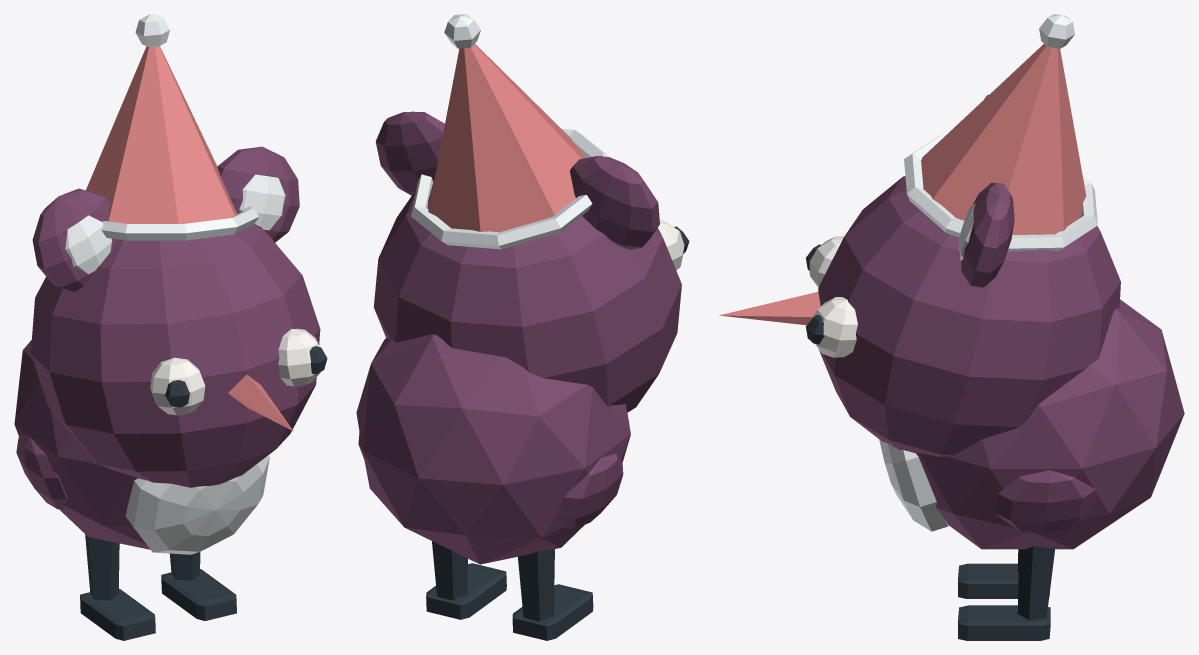
The model's file is bird-lab-1.glb.
3 views of the same model, side by side, from view 1: azimuth 30°, elevation 25°; view 2: azimuth 150°, elevation 25°; view 3: azimuth 270°, elevation 25° (orthographic). The views are drawn at different scales.
Visible parts, largest first — view 1: bird-lab-1; view 2: bird-lab-1; view 3: bird-lab-1.
Part boxes in pixels (left/top/right/bottom): bird-lab-1: left=14, top=14, right=327, bottom=640; bird-lab-1: left=356, top=14, right=689, bottom=640; bird-lab-1: left=718, top=14, right=1184, bottom=640.
Bounding box in the file's own units: 0.4254 × 0.9 × 0.6271.
